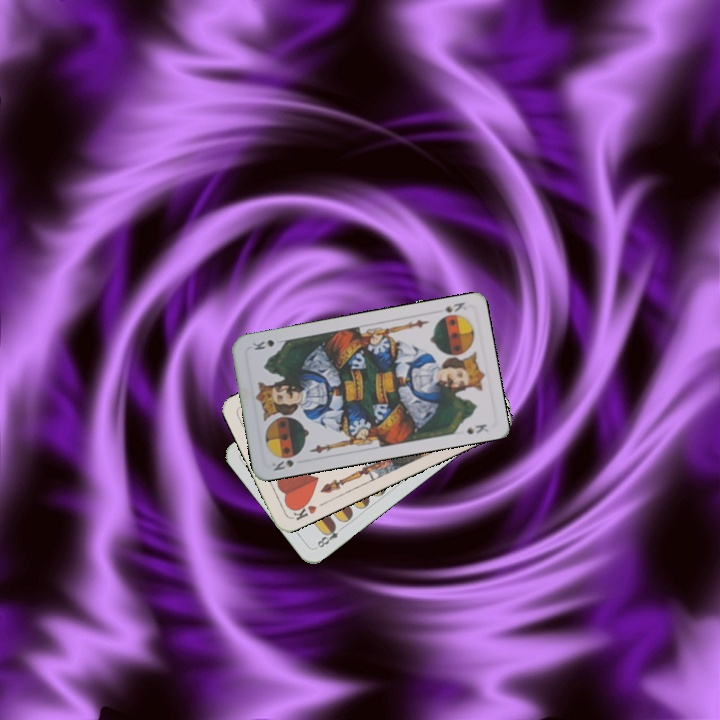E8: (313, 521, 347, 550)
HK: (287, 497, 319, 523)
SK: (268, 456, 296, 473), (441, 298, 469, 315)
